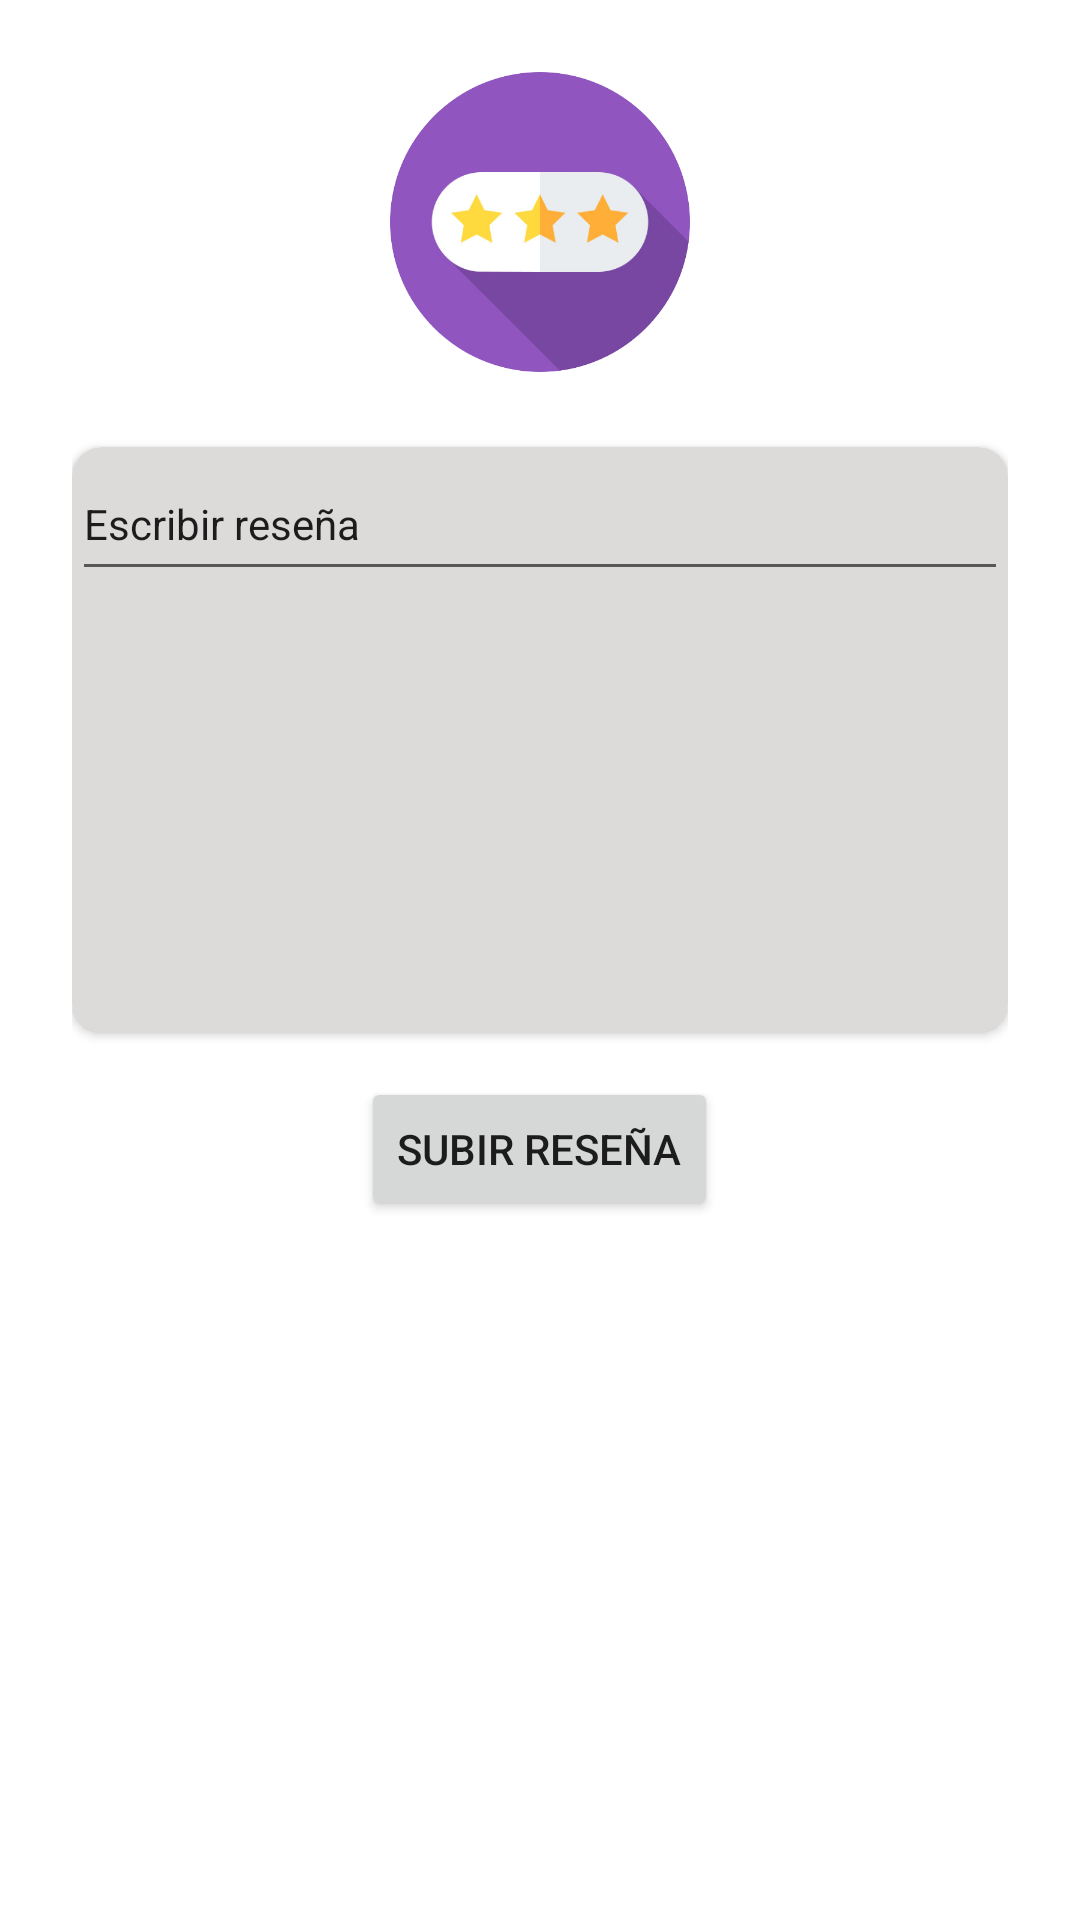

Locate icon controls on the screen. Image size 1080px x 1920px, boxes as rect(x1, y1, x2, y2).
resenyas: rect(390, 72, 690, 372)
